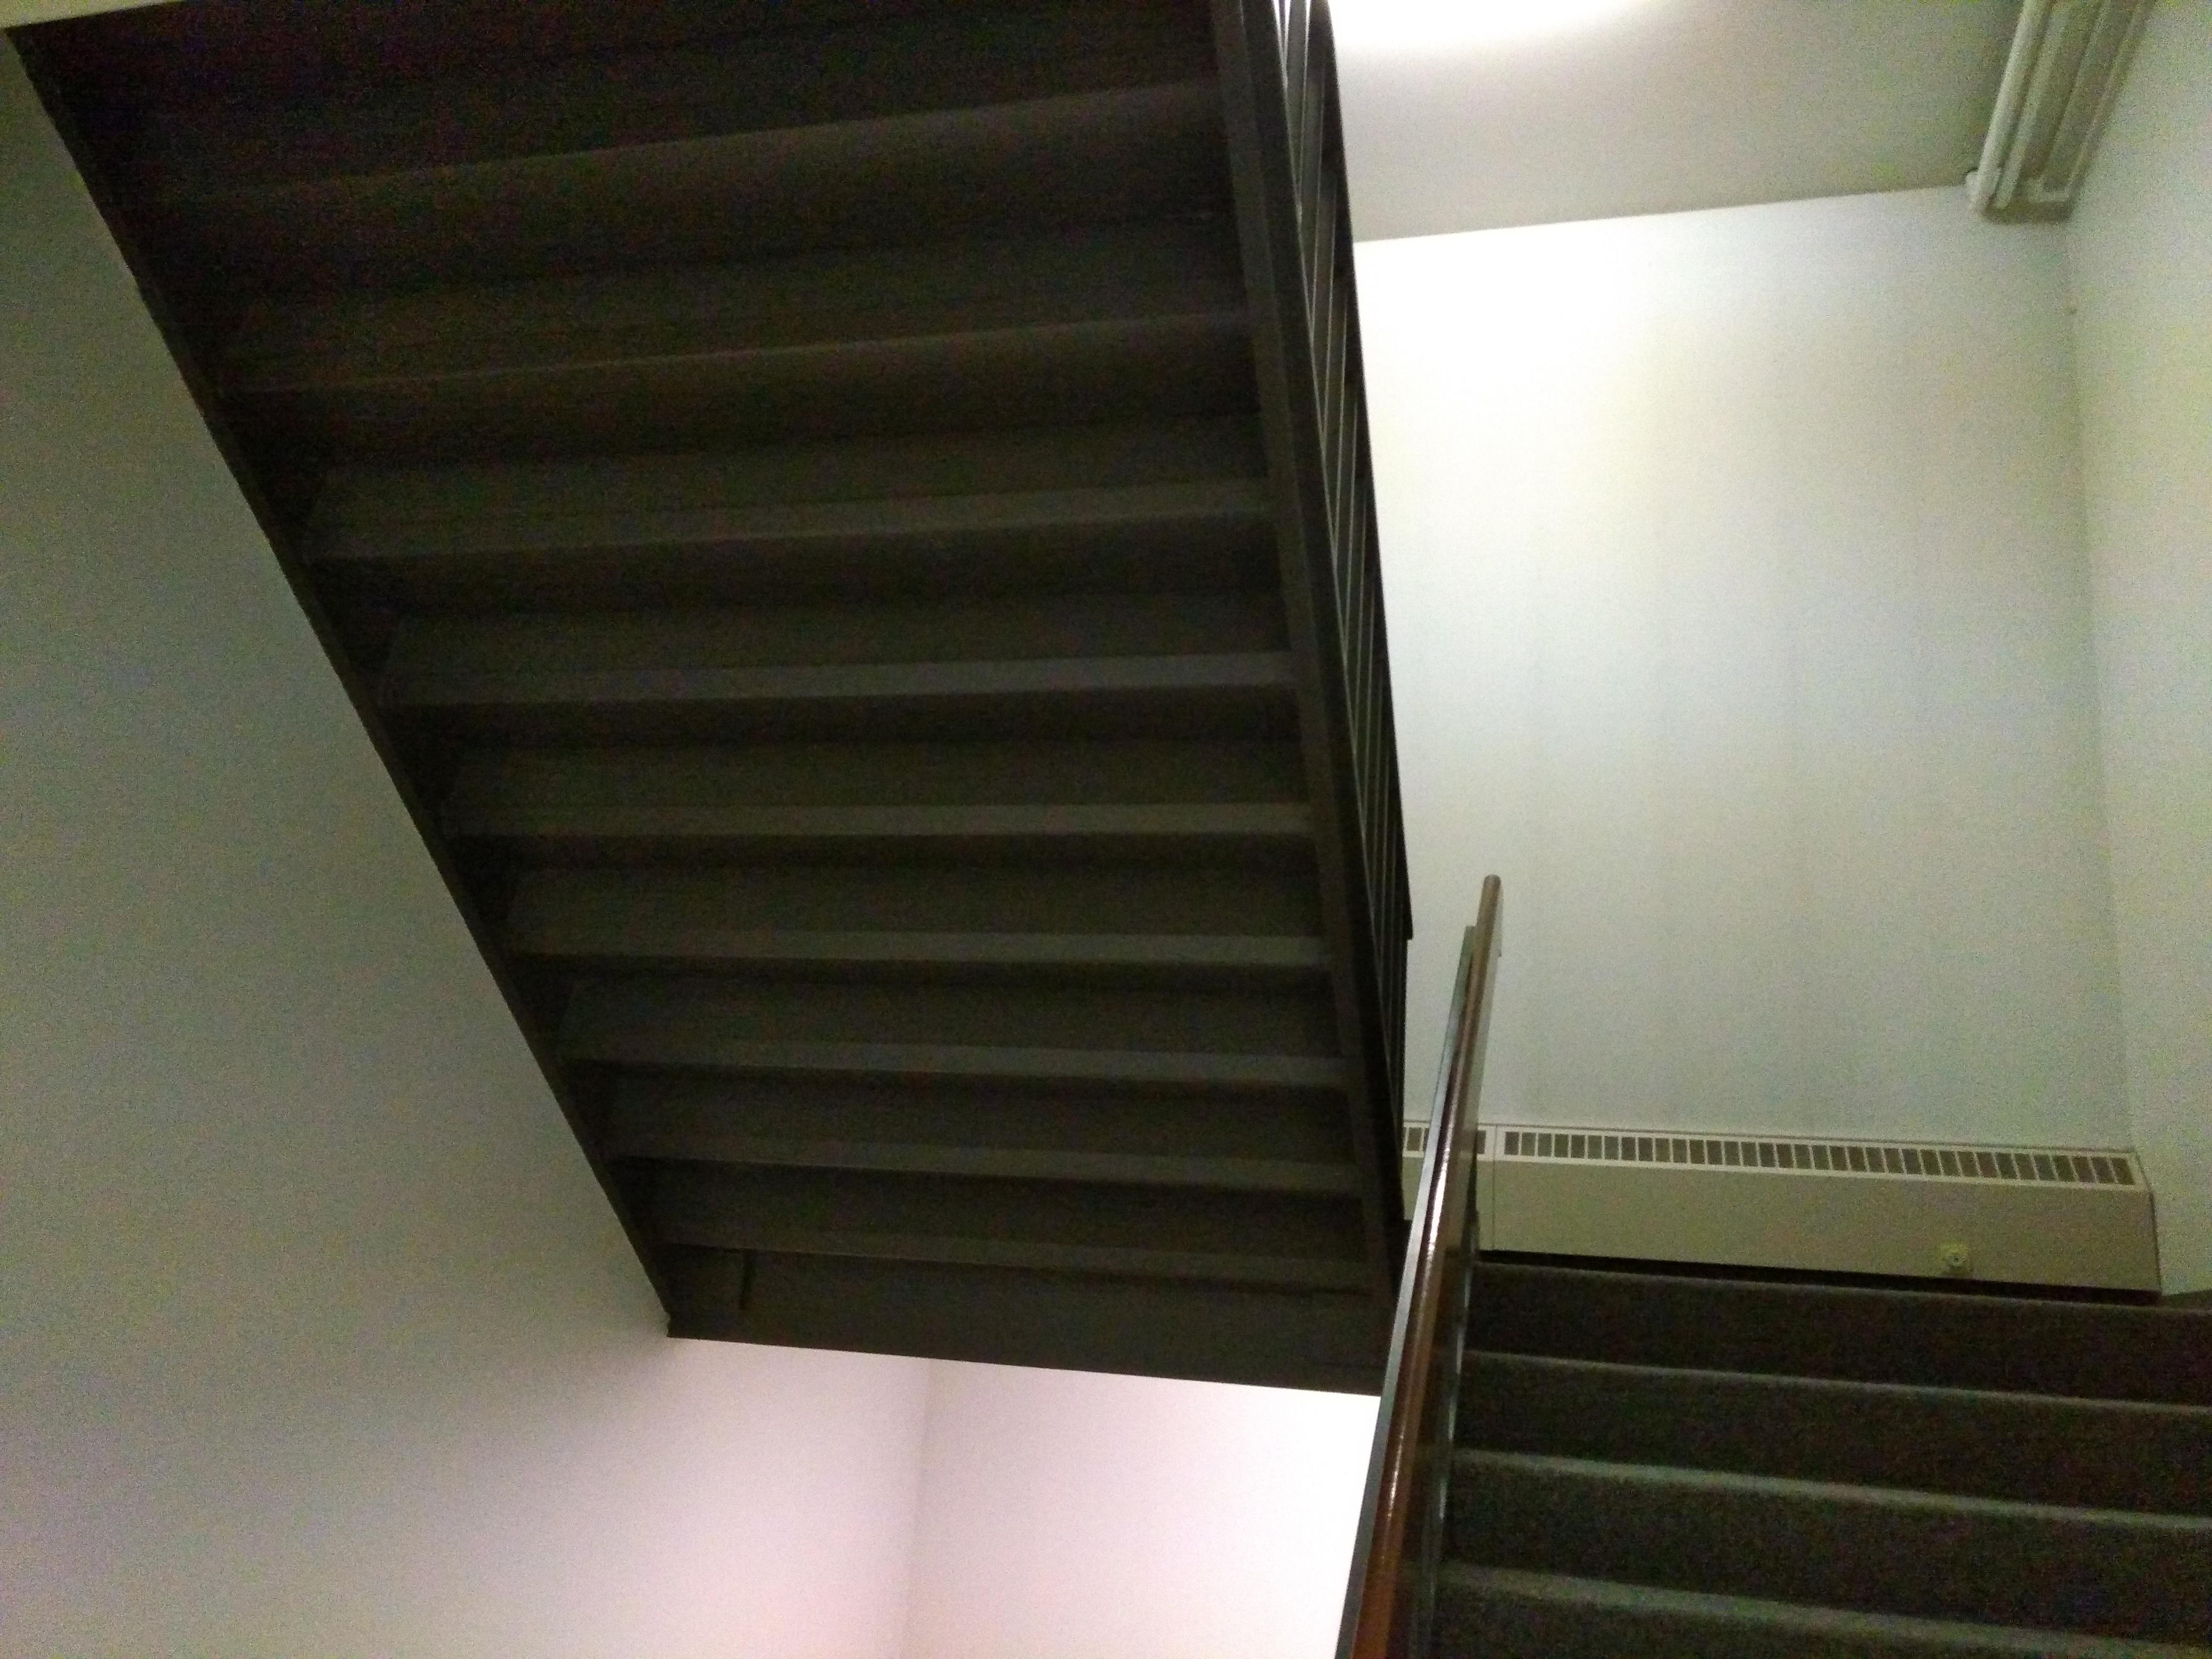stairs_up: (1439, 1244, 2212, 1659)
